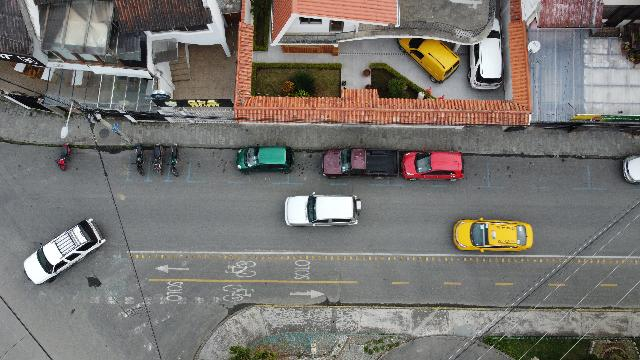Vehiculo: (23, 218, 105, 284), (398, 37, 460, 83), (453, 218, 533, 253), (468, 18, 504, 90), (284, 194, 362, 226), (323, 148, 399, 178), (402, 151, 464, 181), (236, 146, 294, 174), (622, 155, 640, 183)
